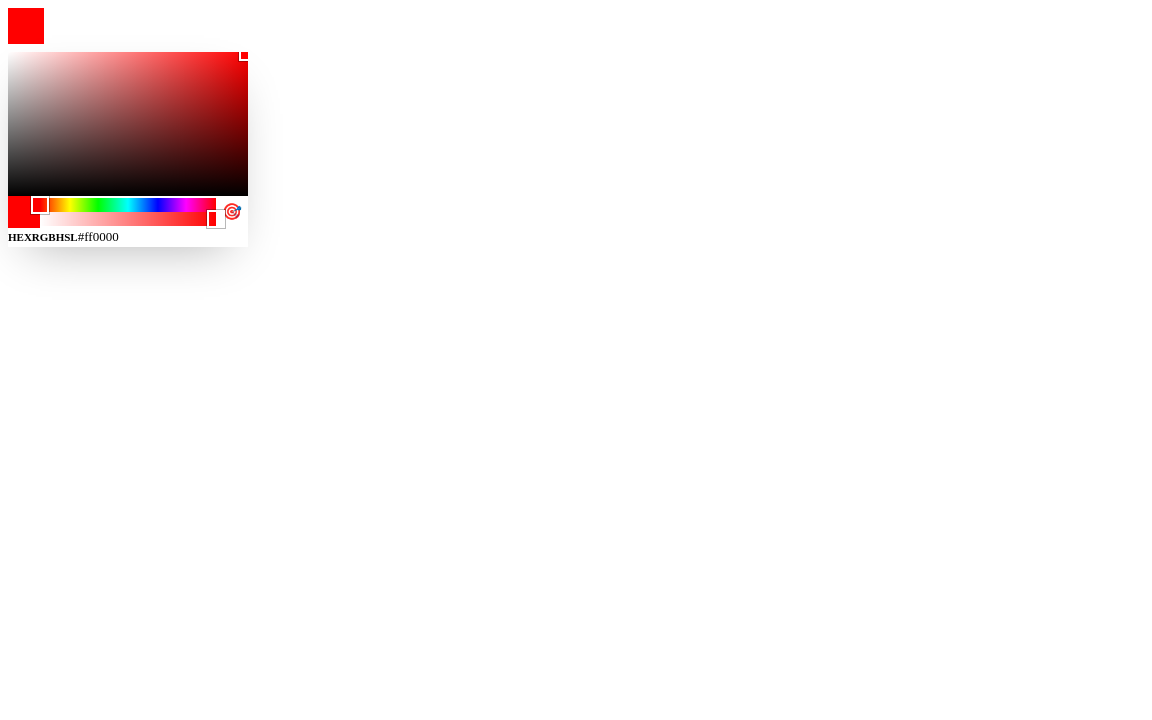
Test: ColorPicker › 格式切换器把输出从 hex 切到 rgb
This screenshot has width=1152, height=720.
Click the button "RGB" at point(44, 237), box [32,228,56,246]
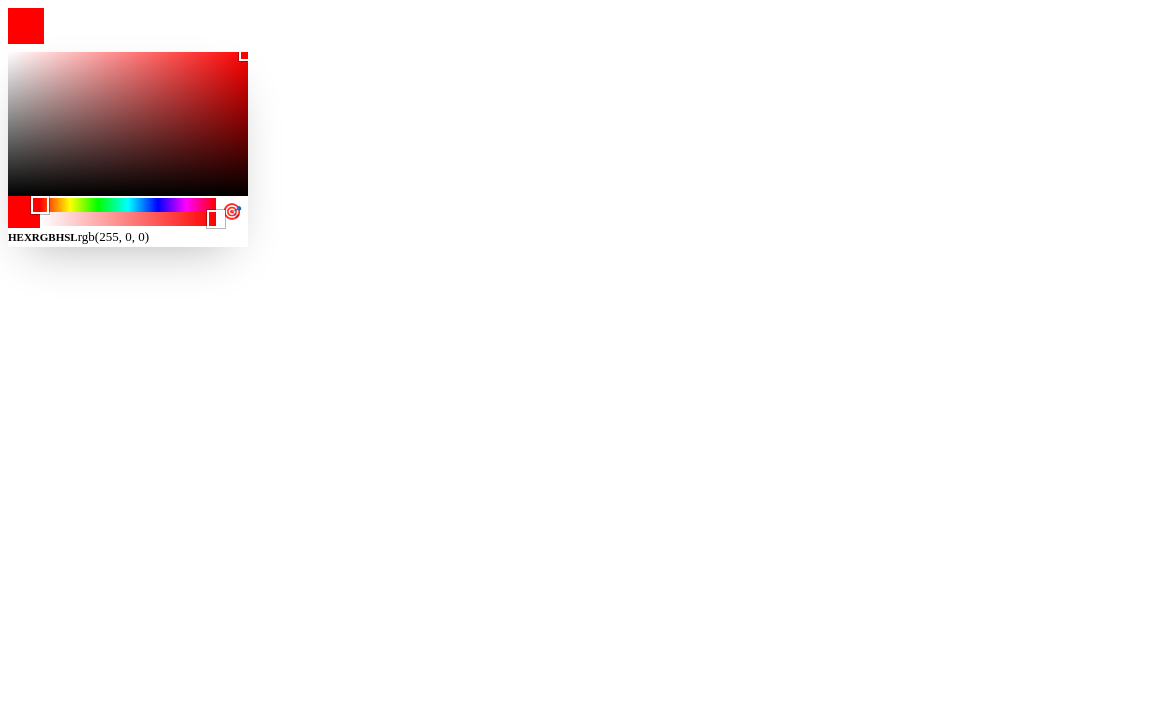
Expected: the field named "RGB value" holds "rgb(255, 0, 0)", [78,228,248,246]
